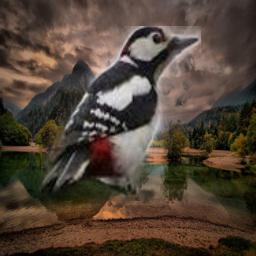Woodpecker: (41, 26, 201, 201)
